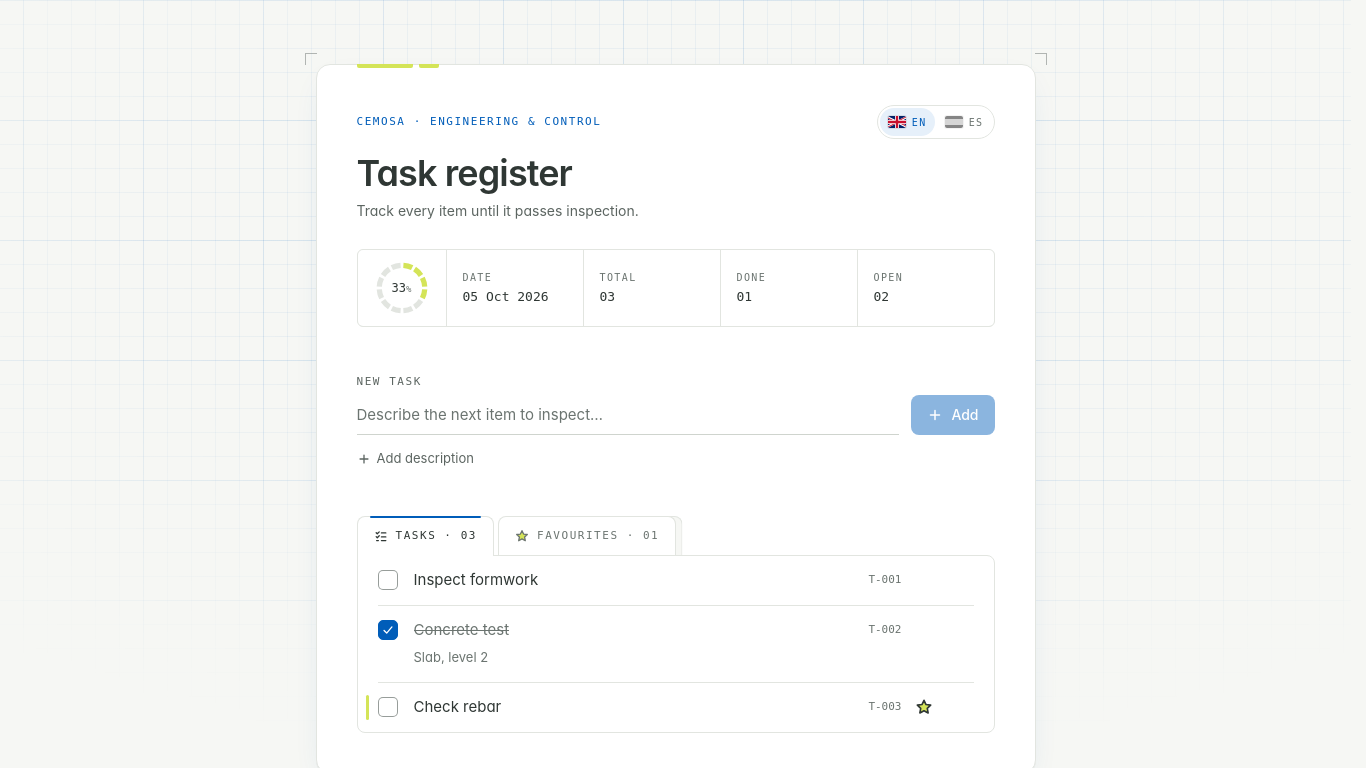
Test: language › switches the interface between English and Spanish and remembers the choice
Expected: the text "Inspect formwork" is shown, [414,570,538,589]
What coordinates should you click on to do the following:
click the button named "Español"
I would click on:
 (964, 122)
Its box is [937,108,992,136].
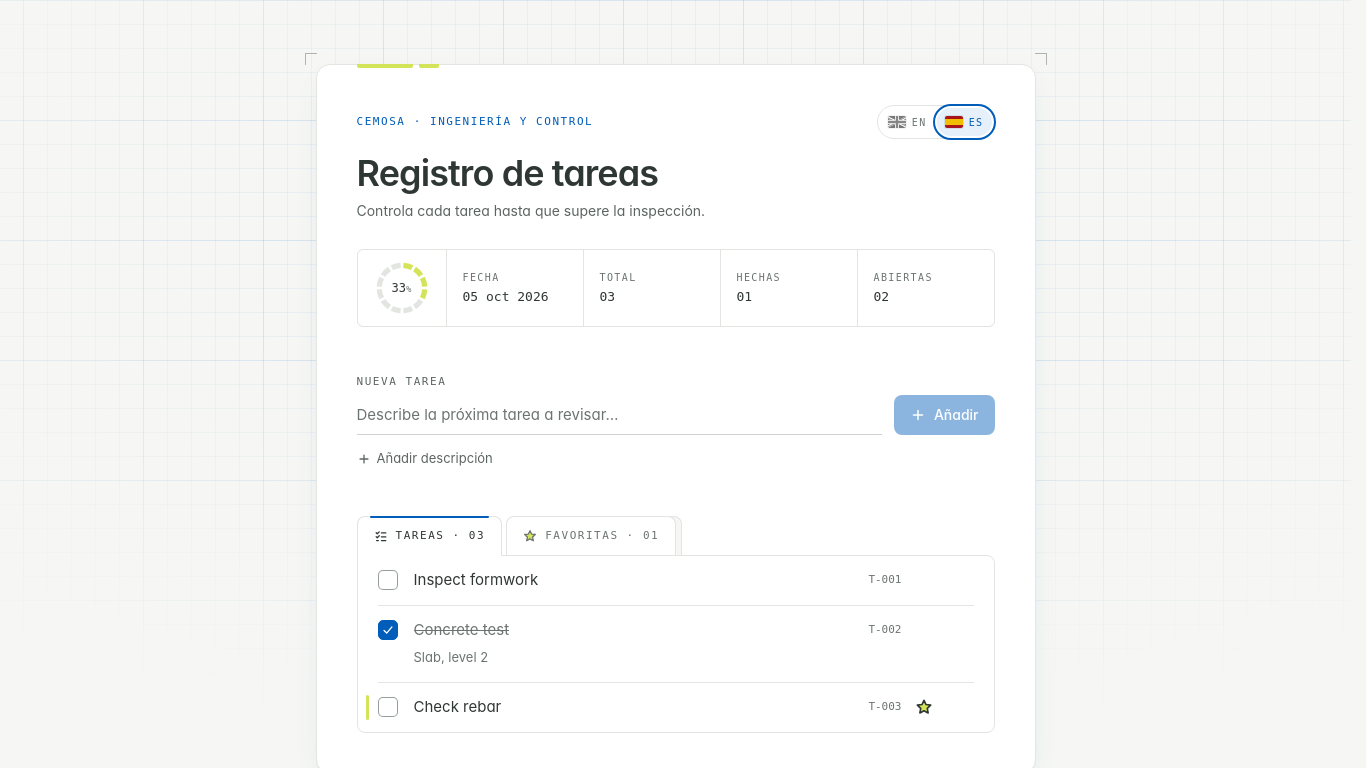
Expected: the checkbox labelled "Inspect formwork" is shown, [378,570,398,590]
Result: the heading reads "Registro de tareas" at [356,151,658,195]
